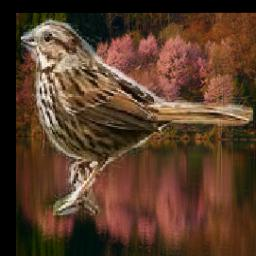Sparrow: (21, 19, 253, 216)
